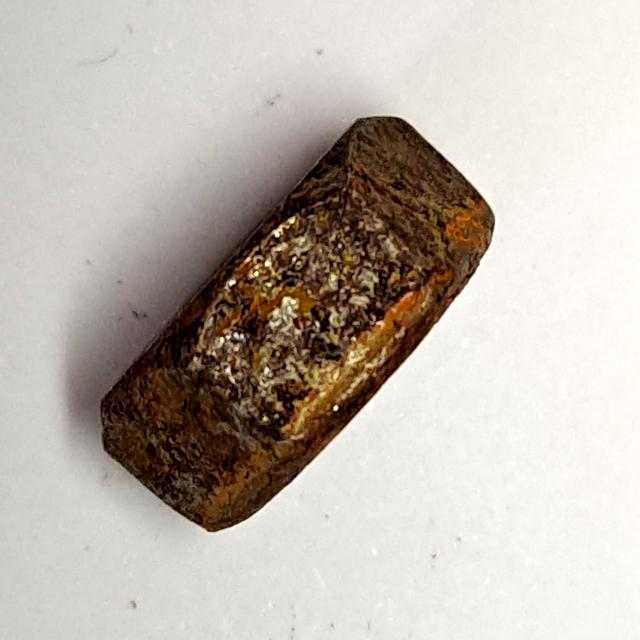Side_Rust: (83, 98, 513, 553)
